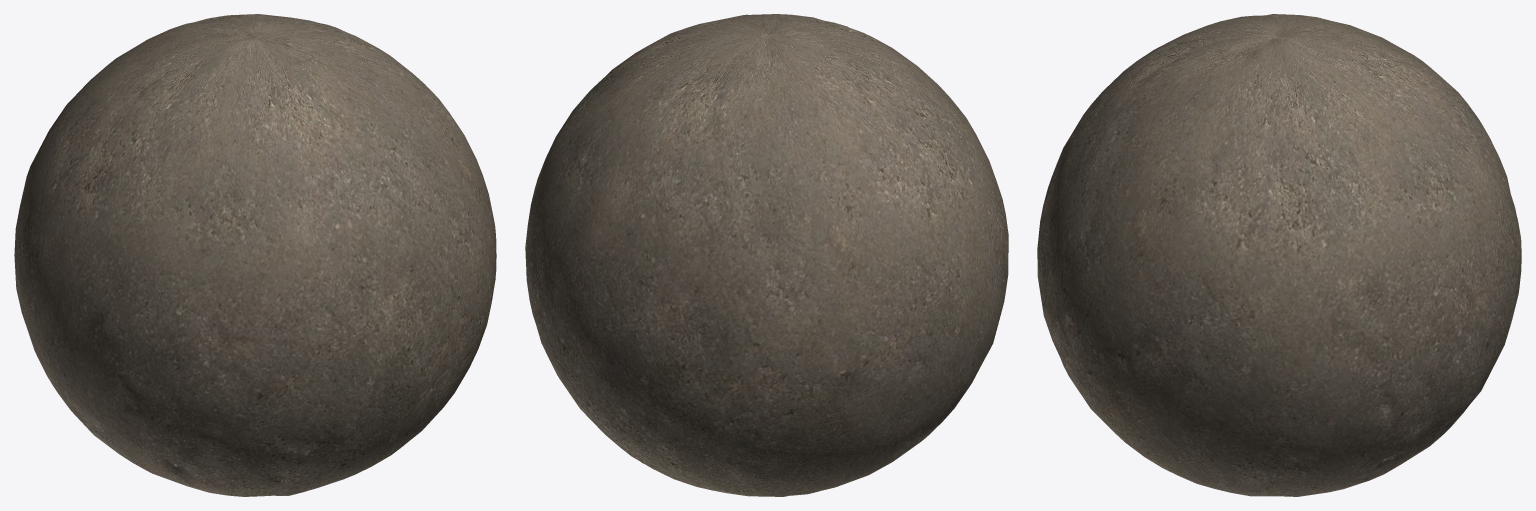
The model's file is rock_01_2k.glb.
3 renders of one model, left to right at view 1: azimuth 30°, elevation 25°; view 2: azimuth 150°, elevation 25°; view 3: azimuth 270°, elevation 25°, orthographic.
Parts seen in each view (by area): view 1: sphere_gltf.001; view 2: sphere_gltf.001; view 3: sphere_gltf.001.
Part boxes in pixels (box(x1,y1,x2,y2)): sphere_gltf.001: box(14, 14, 496, 496); sphere_gltf.001: box(525, 14, 1008, 496); sphere_gltf.001: box(1037, 14, 1521, 496).
Bounding box in the file's own units: 1.5 × 1.51 × 1.5.
1 material, 1 textured.
